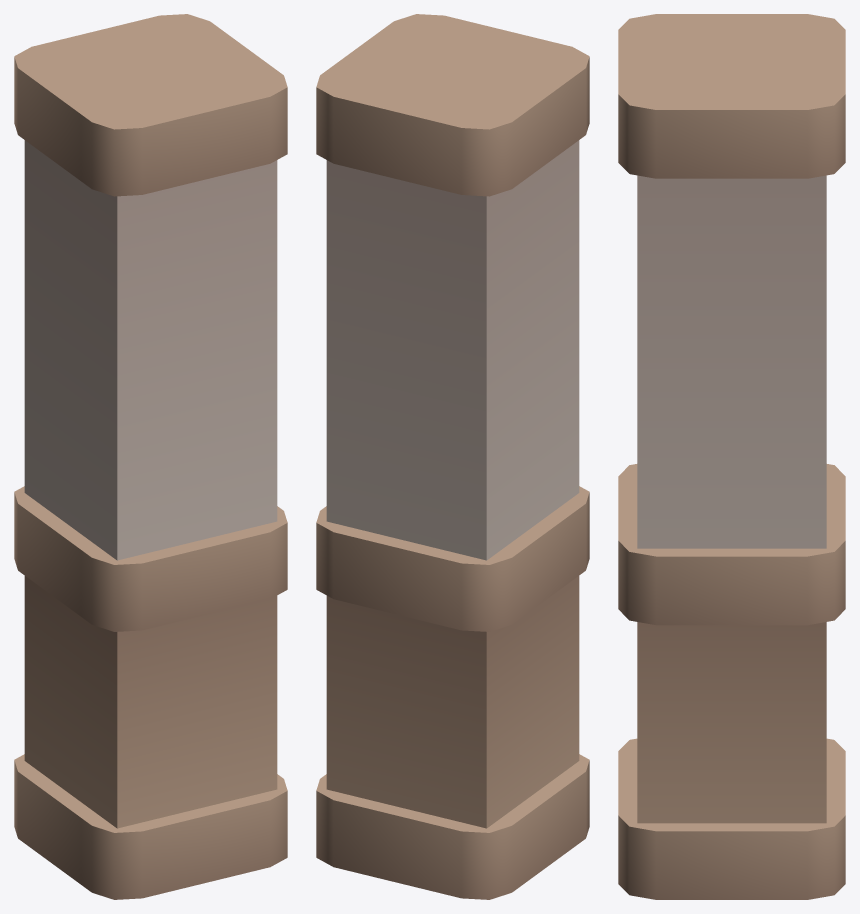
Rendered from column-square-ring.glb.
3 renders of one model, left to right at view 1: azimuth 30°, elevation 25°; view 2: azimuth 150°, elevation 25°; view 3: azimuth 270°, elevation 25°, orthographic. The views are drawn at different scales.
Parts seen in each view (by area): view 1: column-square-ring; view 2: column-square-ring; view 3: column-square-ring.
Part boxes in pixels (x1=…): column-square-ring: x1=14, y1=14, x2=287, y2=899; column-square-ring: x1=316, y1=14, x2=589, y2=899; column-square-ring: x1=618, y1=14, x2=845, y2=899.
Bounding box in the file's own units: 0.6 × 2.3 × 0.6.
